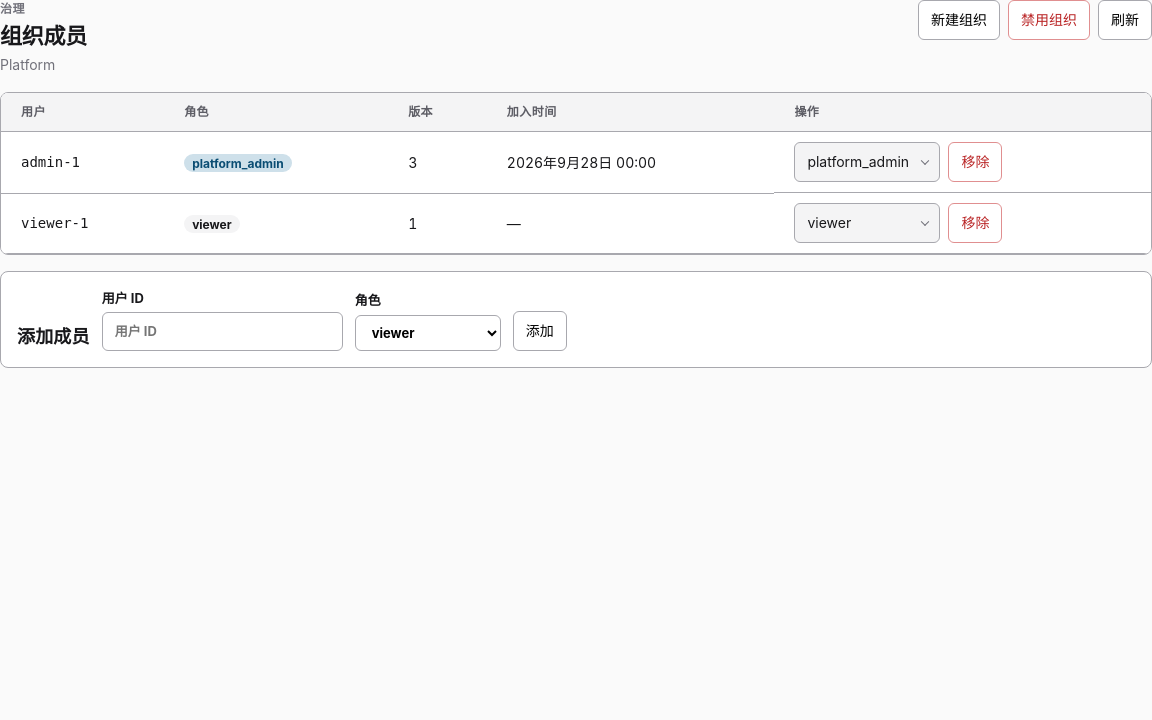
Test case: OrganizationPage organization-level actions (TASK-301) › refuses an empty organization name before sending
This screenshot has width=1152, height=720.
Step 1. Click the button with test id "organization-create-open" → (959, 20), box [918,0,1000,40]
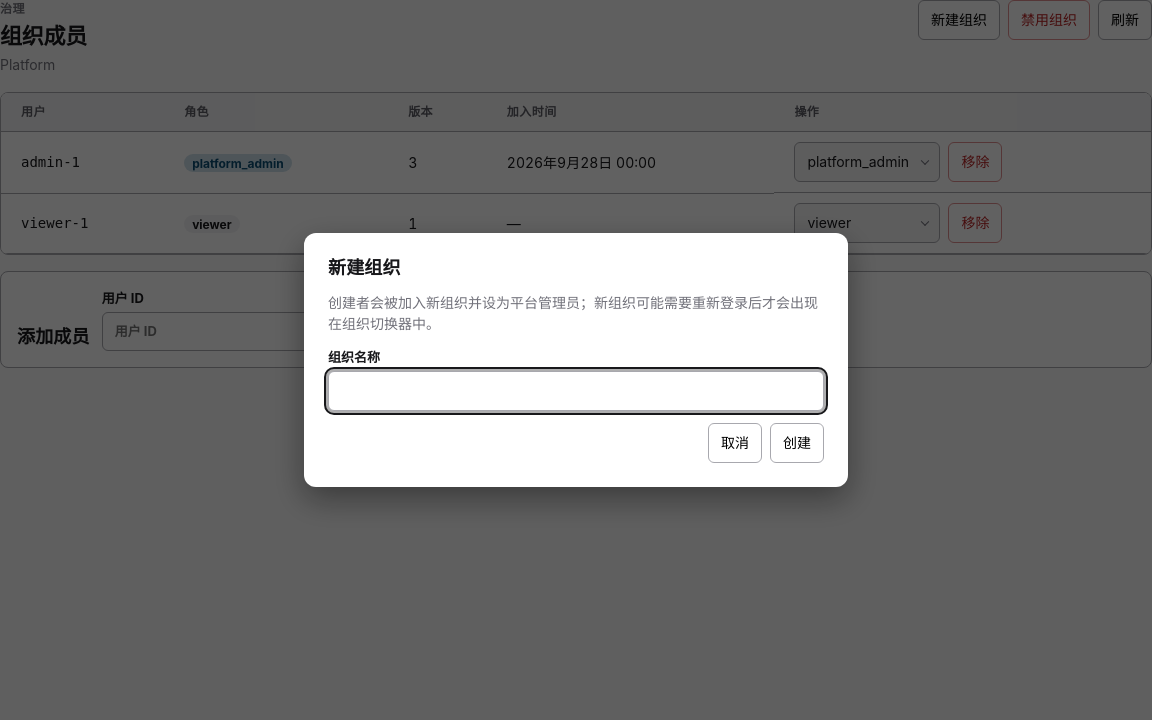
Step 2. Submit the form, box [328,347,824,463]
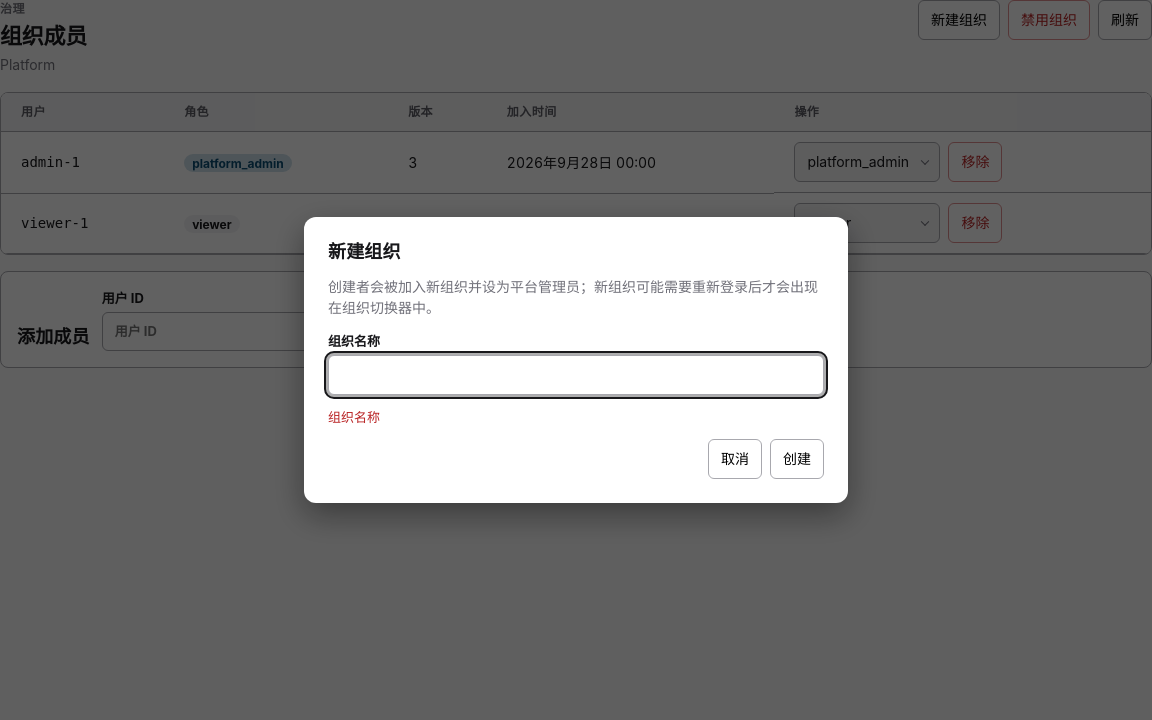
Expected: the element with class "organization__create" is shown, [328,276,824,479]
Expected: the message "组织名称" is shown, [328,409,380,425]
